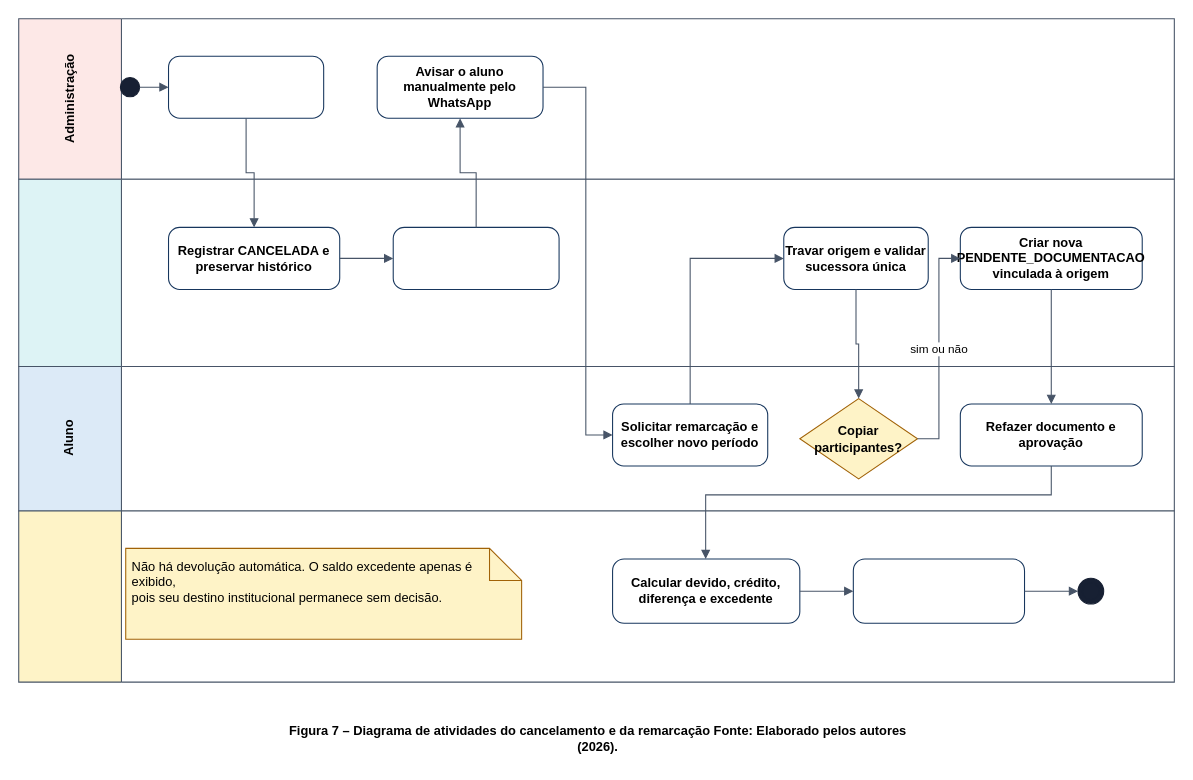
This 1193x780 diagram has some shape labels left out. The box of each missing label's shape, as (x1, y1, x2, y2) in pixels:
Cancelar reserva aprovada com motivo: (167, 55, 324, 118)
CourtTime: (18, 178, 1174, 366)
Disponibilizar valor efetivamente pago como crédito: (392, 226, 559, 289)
Registrar uso do crédito e eventual diferença: (852, 558, 1025, 623)
Secretaria: (18, 510, 1174, 682)
